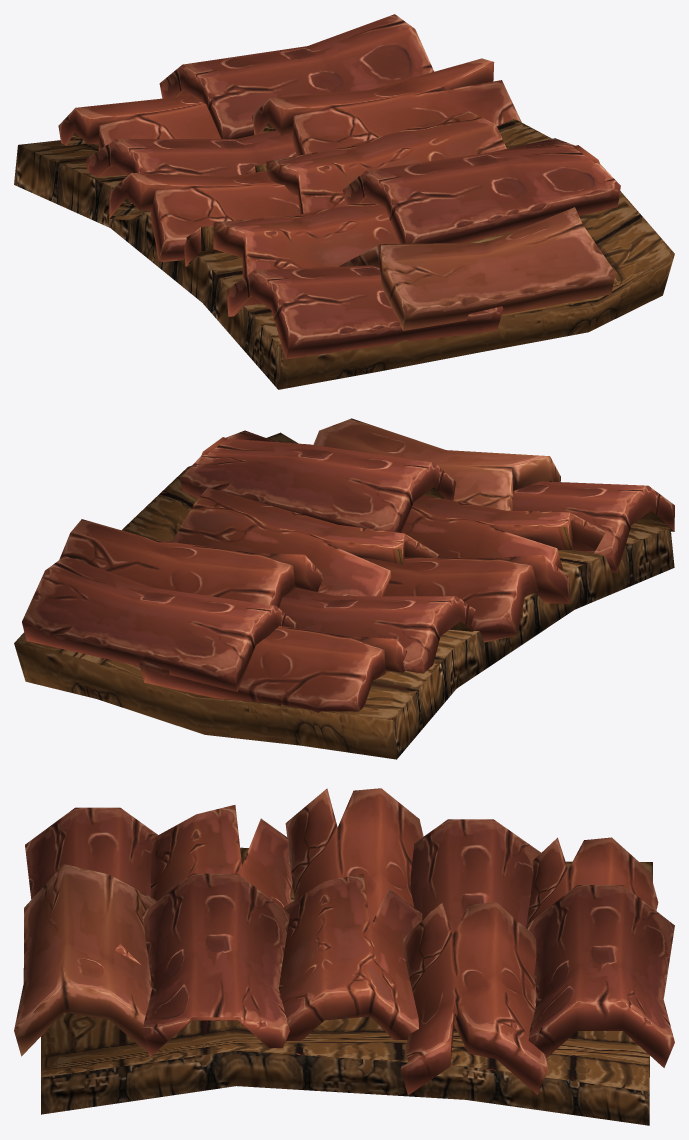
File: roof_small.fbx
3 views of the same model, one above another, from view 1: azimuth 30°, elevation 25°; view 2: azimuth 150°, elevation 25°; view 3: azimuth 270°, elevation 25° (orthographic). The views are drawn at different scales.
Parts seen in each view (by area): view 1: roof_small; view 2: roof_small; view 3: roof_small.
Boxes of the visible parts, x1,y1,x2,y2 form: roof_small: [14, 14, 674, 389]; roof_small: [14, 418, 674, 759]; roof_small: [14, 788, 674, 1125].
Bounding box in the file's own units: 101 × 30.6 × 124.
